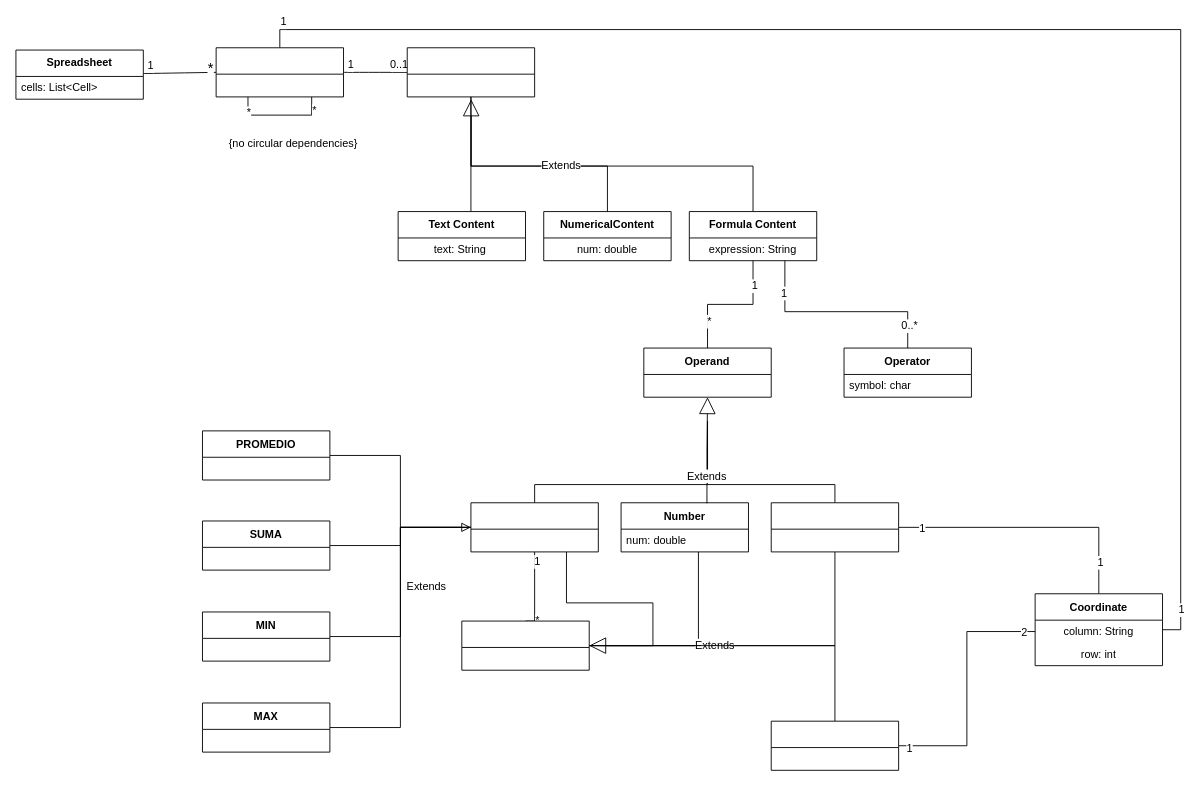
Image size: 1200x786. Some labels were removed from this diagram. Each missing label, with the centre of its shape:
"Argument" goes at (525,645).
"Cell" goes at (279,72).
"Cell Reference" goes at (834,527).
"Content" goes at (470,72).
"Function" goes at (534,527).
"Range" goes at (834,745).
